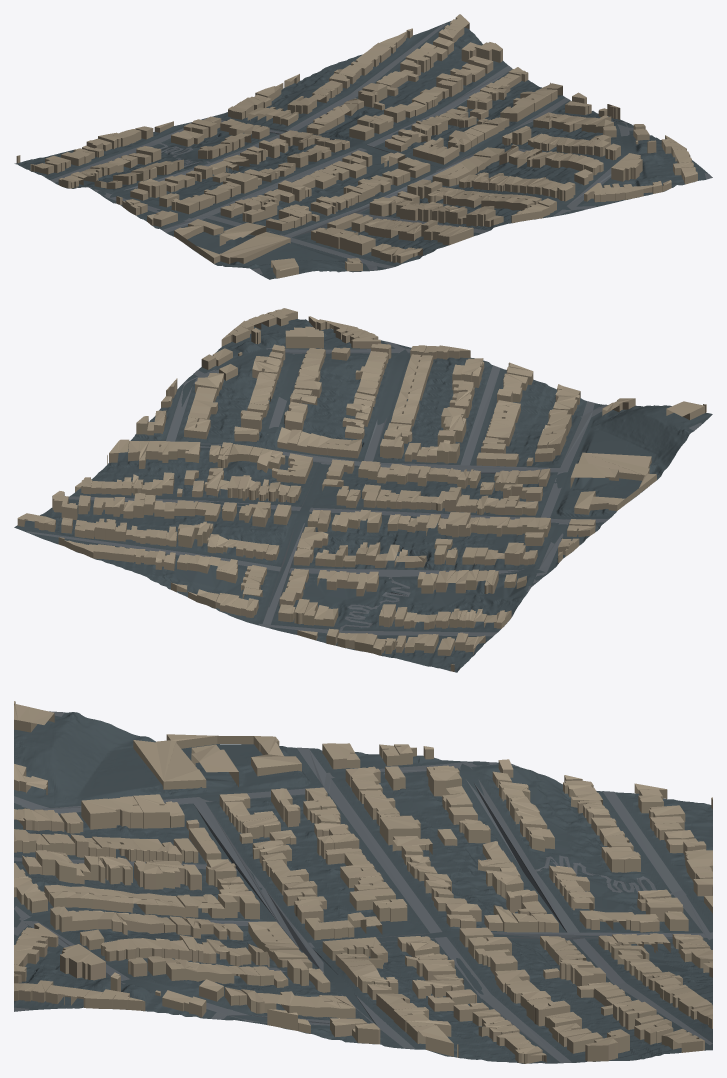
File: epsg26910-1438-10871.lod0.glb
3 views of the same model, one above another, from view 1: azimuth 30°, elevation 25°; view 2: azimuth 150°, elevation 25°; view 3: azimuth 270°, elevation 25° (orthographic). The views are drawn at different scales.
Parts seen in each view (by area): view 1: epsg26910-1438-10871-lod0; view 2: epsg26910-1438-10871-lod0; view 3: epsg26910-1438-10871-lod0.
Part boxes in pixels (x1,y1,x2,y2): epsg26910-1438-10871-lod0: (14,14,712,279); epsg26910-1438-10871-lod0: (14,308,712,672); epsg26910-1438-10871-lod0: (14,701,712,1063).
Size of the model in its own units: 384 by 69.05 by 384.
